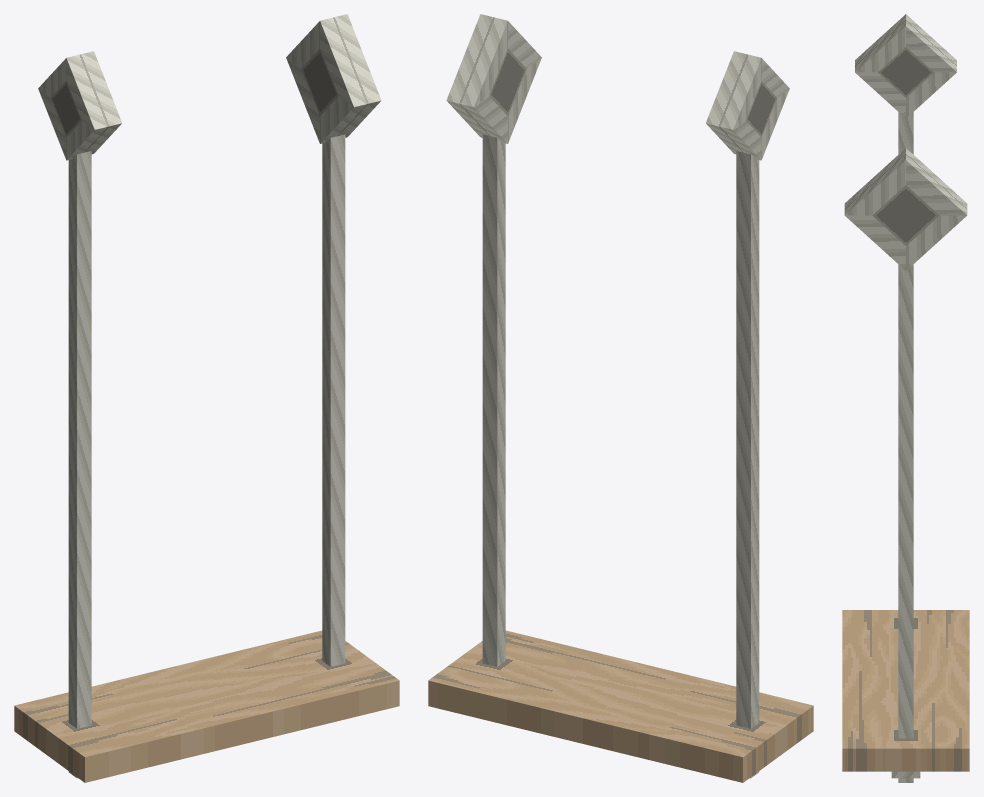
The model's file is 031c_Swing.glb.
3 renders of one model, left to right at view 1: azimuth 30°, elevation 25°; view 2: azimuth 150°, elevation 25°; view 3: azimuth 270°, elevation 25°, orthographic. The views are drawn at different scales.
Parts seen in each view (by area): view 1: part_1, part_0; view 2: part_1, part_0; view 3: part_1, part_0.
Boxes of the visible parts, x1,y1,x2,y2 form: part_1: (14, 134, 399, 782); part_0: (38, 14, 381, 160); part_1: (428, 134, 813, 782); part_0: (446, 14, 789, 160); part_1: (842, 112, 969, 782); part_0: (844, 14, 967, 270).
Size of the model in its own units: 0.6683 by 1.46 by 0.26.
Materials: 2 (2 with a texture image).
